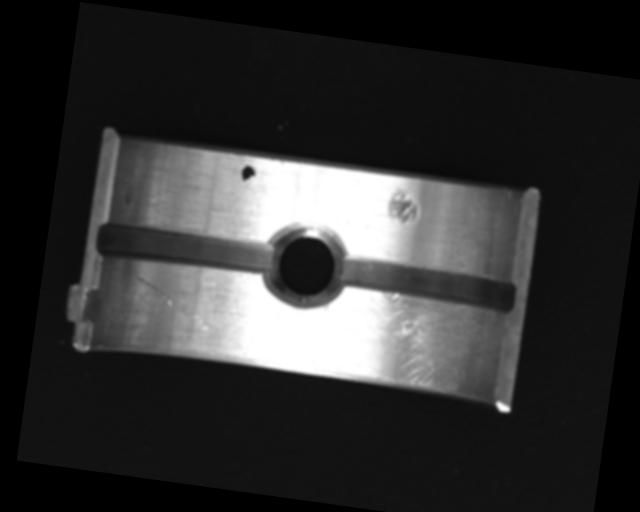blot: (239, 163, 258, 188)
bruise: (386, 184, 421, 227)
gap: (333, 253, 519, 316), (94, 219, 273, 278)
hole: (260, 217, 349, 311)
nick: (127, 274, 216, 333)
scratch: (325, 284, 498, 398)
